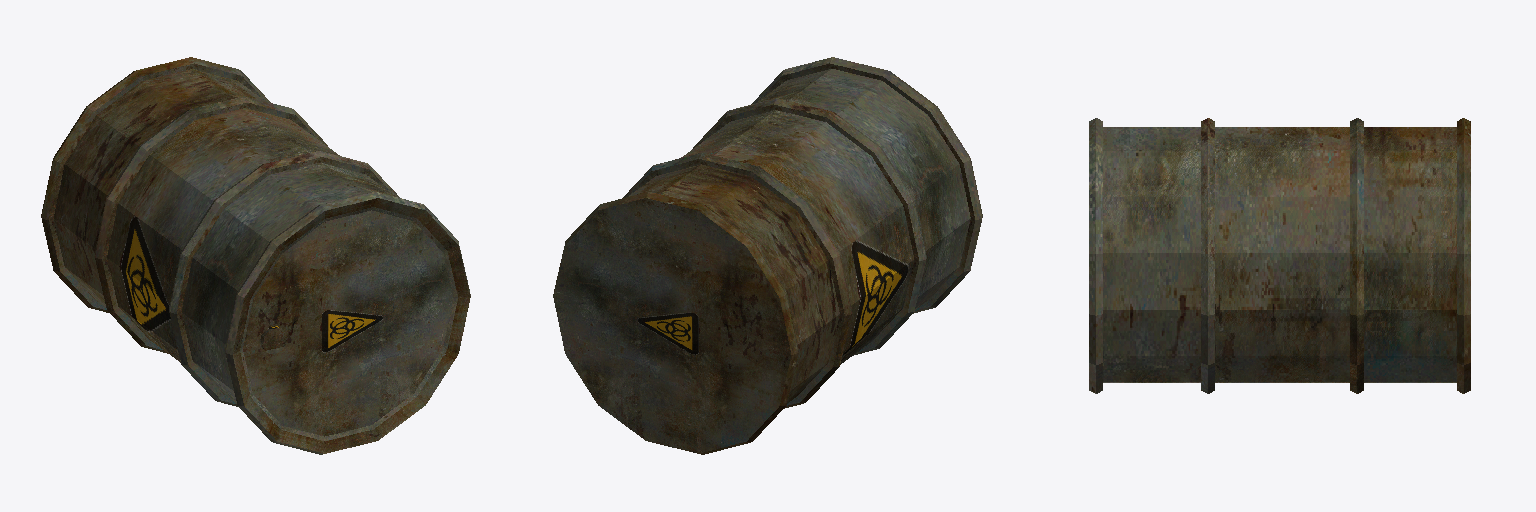
3 renders of one model, left to right at view 1: azimuth 30°, elevation 25°; view 2: azimuth 150°, elevation 25°; view 3: azimuth 270°, elevation 25°, orthographic.
Visible parts, largest first — view 1: Cylinder01; view 2: Cylinder01; view 3: Cylinder01.
Part boxes in pixels (left/top/right/bottom): Cylinder01: left=41, top=57, right=470, bottom=454; Cylinder01: left=553, top=57, right=982, bottom=454; Cylinder01: left=1089, top=118, right=1470, bottom=393.
Bounding box in the file's own units: 0.6768 × 0.6598 × 0.9146.
1 materials, 1 textured.